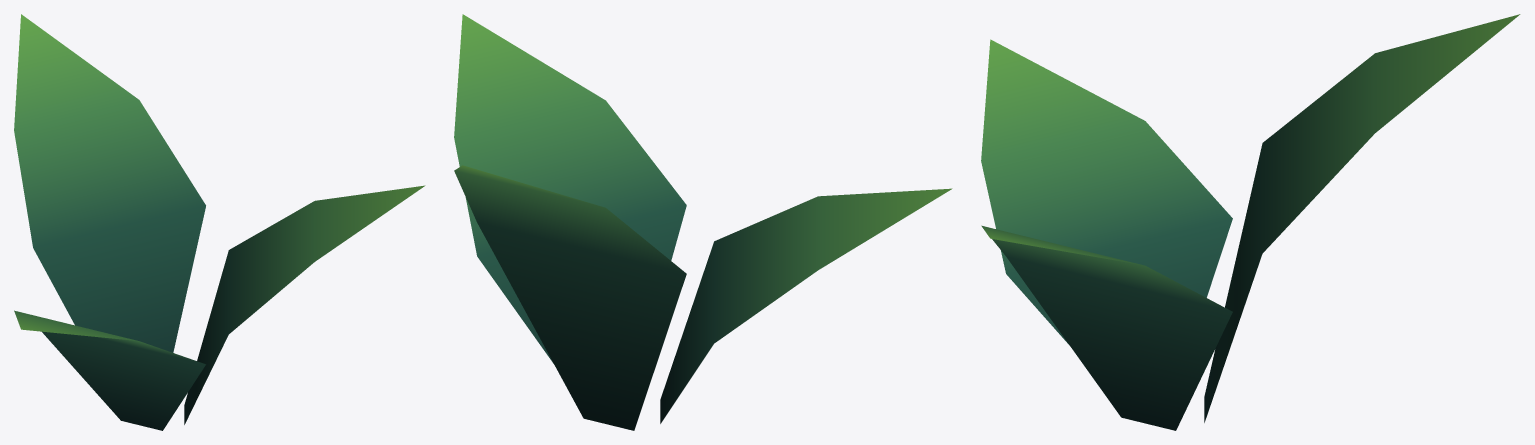
Rendered from plant-0.fbx.
The picture shows the model from 3 angles, left to right: view 1: azimuth 30°, elevation 25°; view 2: azimuth 150°, elevation 25°; view 3: azimuth 270°, elevation 25°; orthographic projection. The views are drawn at different scales.
Parts seen in each view (by area): view 1: plant_bushTriangle; view 2: plant_bushTriangle; view 3: plant_bushTriangle.
Boxes of the visible parts, left/top/right/bottom form: plant_bushTriangle: left=14, top=14, right=425, bottom=430; plant_bushTriangle: left=454, top=14, right=952, bottom=430; plant_bushTriangle: left=981, top=14, right=1520, bottom=430.
Bounding box in the file's own units: 41.36 × 29.55 × 36.44.
